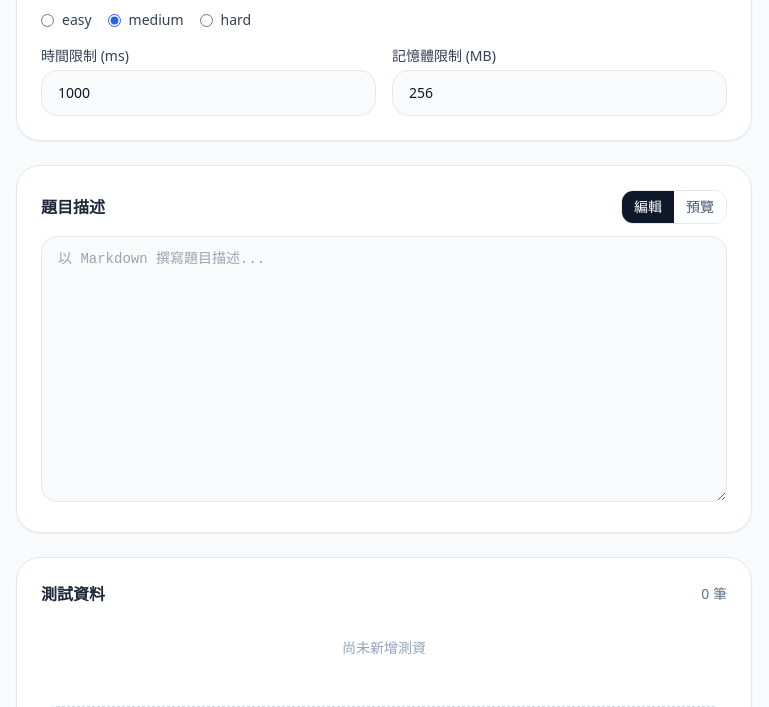
Test: ProblemFormPage() › create mode › preview renders markdown heading (## ...) as an <h2> element
This screenshot has width=769, height=707.
(page scrolled)
Type "## Hello World" into the text box with placeholder "以 Markdown 撰寫題目描述..." at x=384, y=369, box x1=41 y1=236 x2=727 y2=502
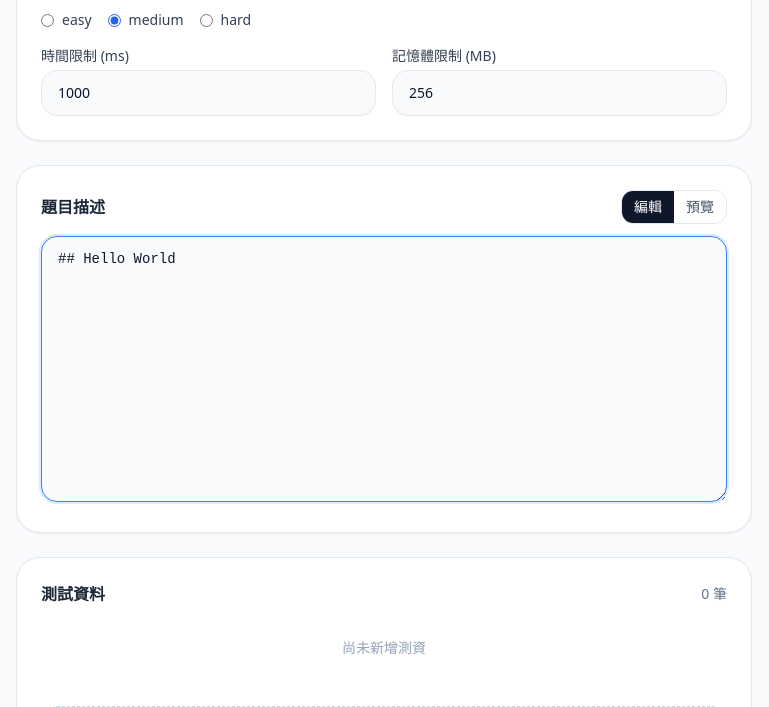
Click the button "預覽" at x=700, y=207, box x1=674 y1=191 x2=726 y2=223
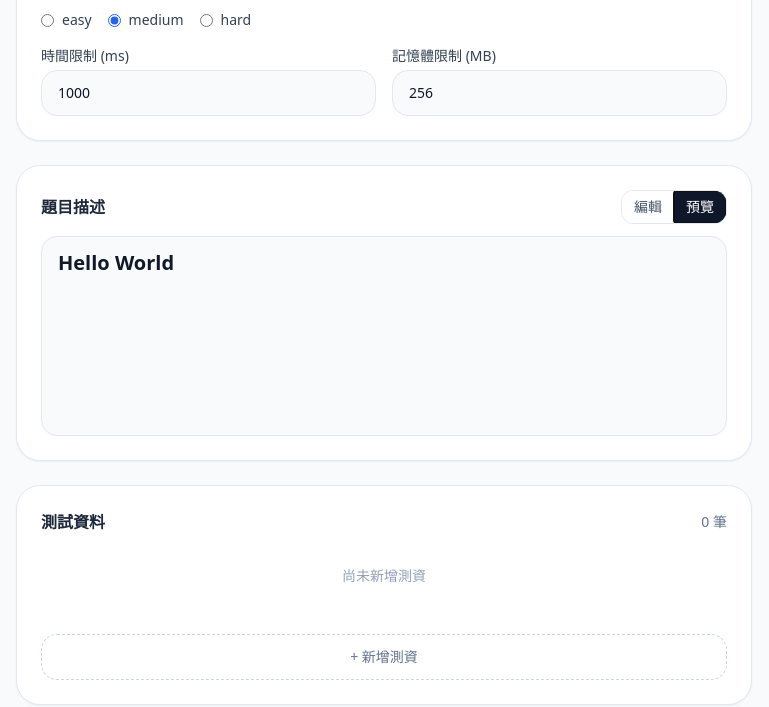
Check: the heading "Hello World" is shown, box x1=58 y1=249 x2=174 y2=276
